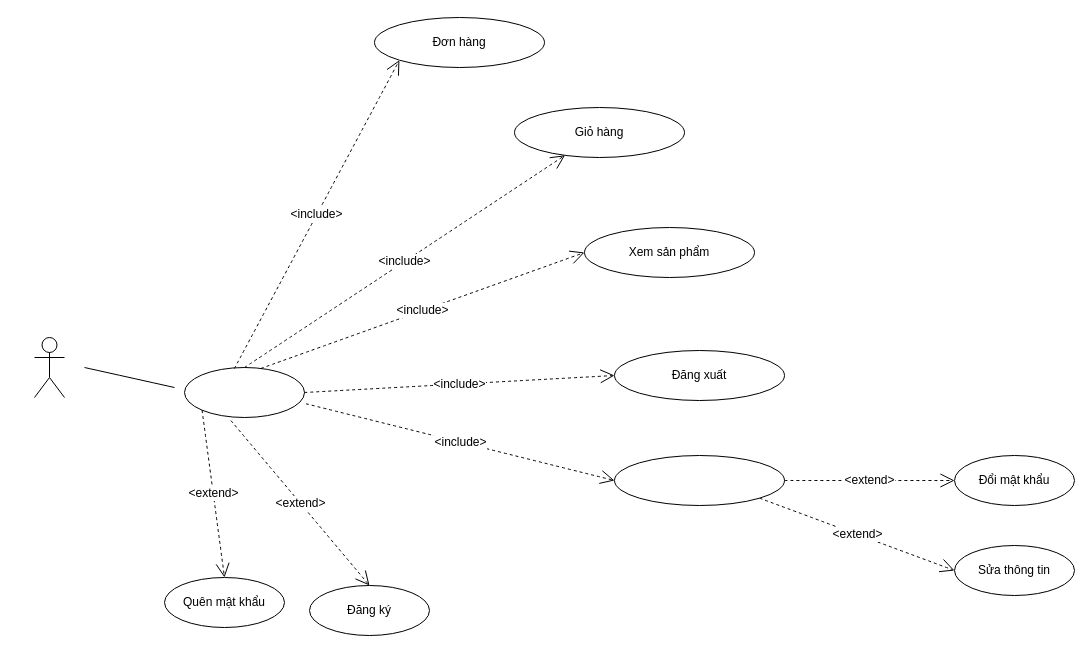
This 1092x653 diagram has some shape labels left out. Here are the shapes that lost their labels. From the top down, the centre of each, then its label:
pixel 49 367: Khách hàng
pixel 244 392: Đăng nhập
pixel 699 480: Quản lý thông tin cá nhân
